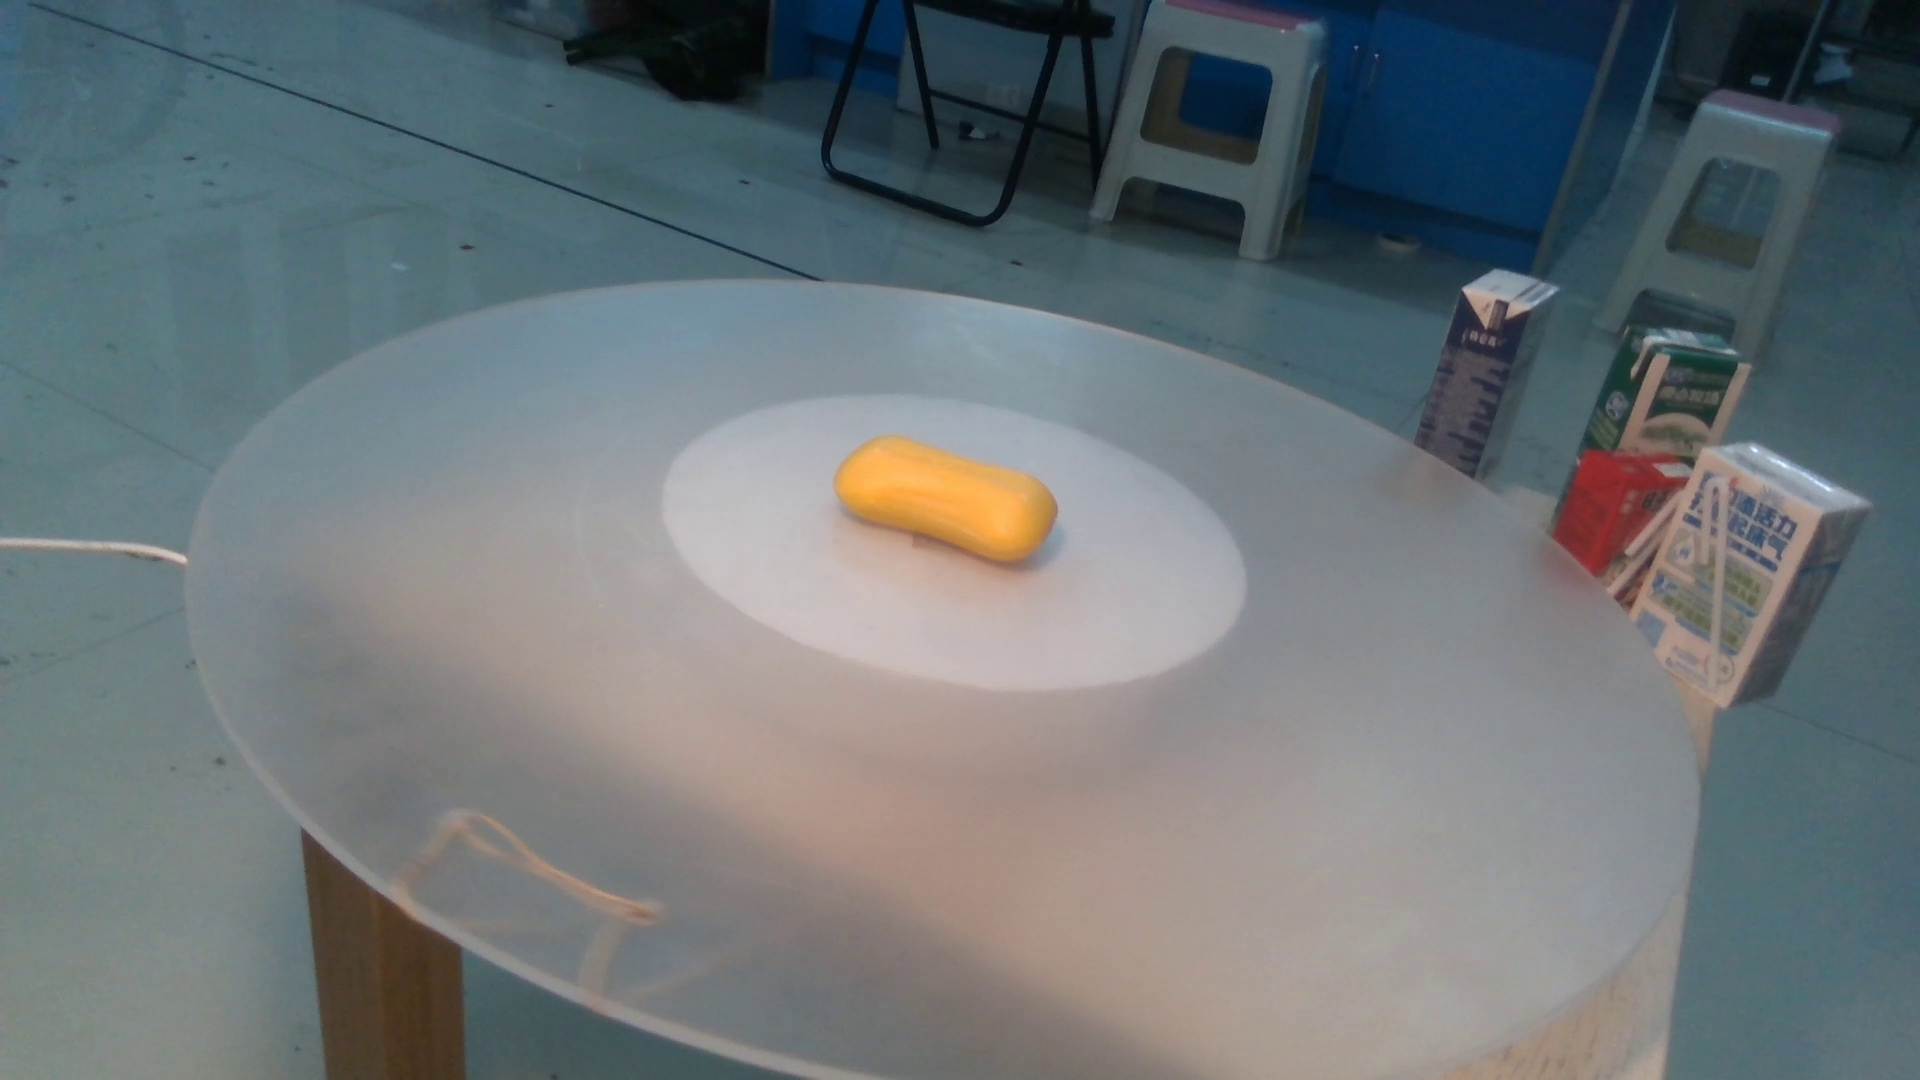CA003_1: (810, 400, 1100, 597)
